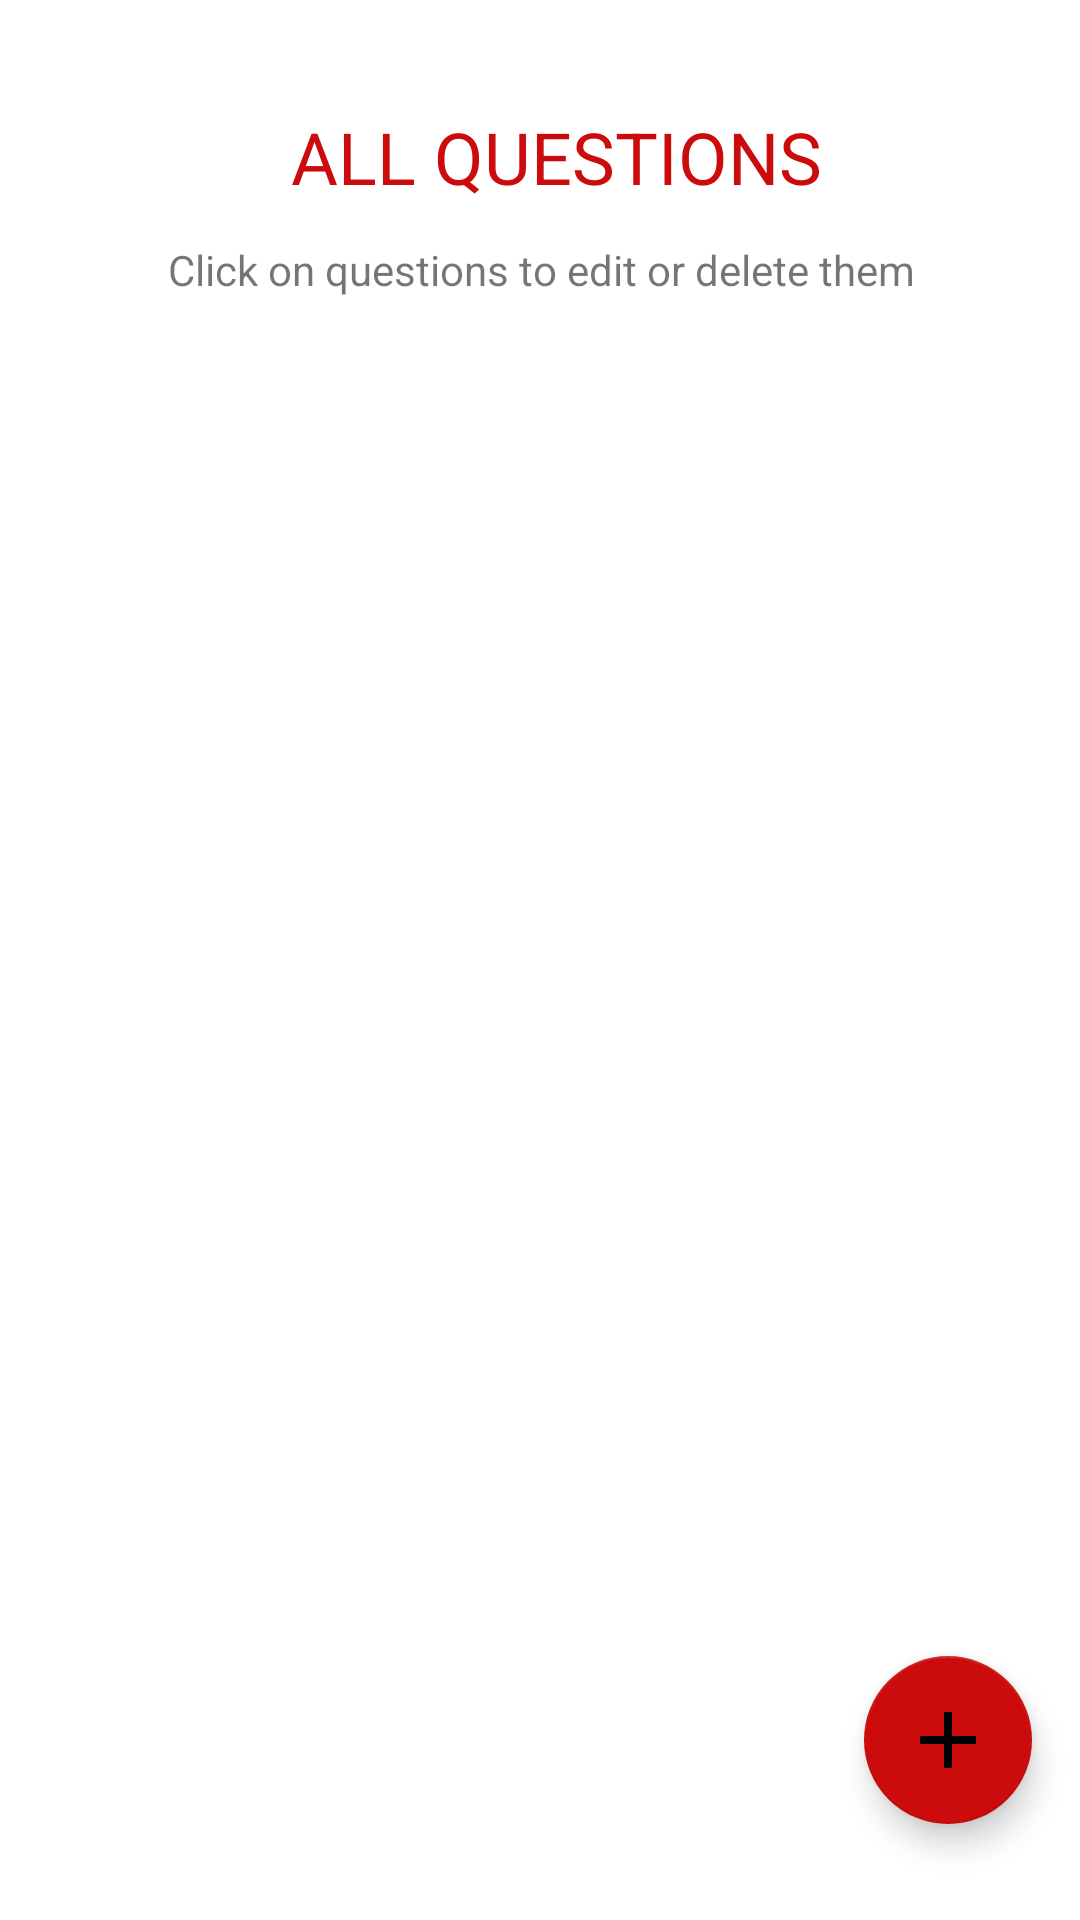

Icons on this 1080px x 1920px Android screen, each with the point to tap as (x=x, y=y):
add: (x=948, y=1740)
